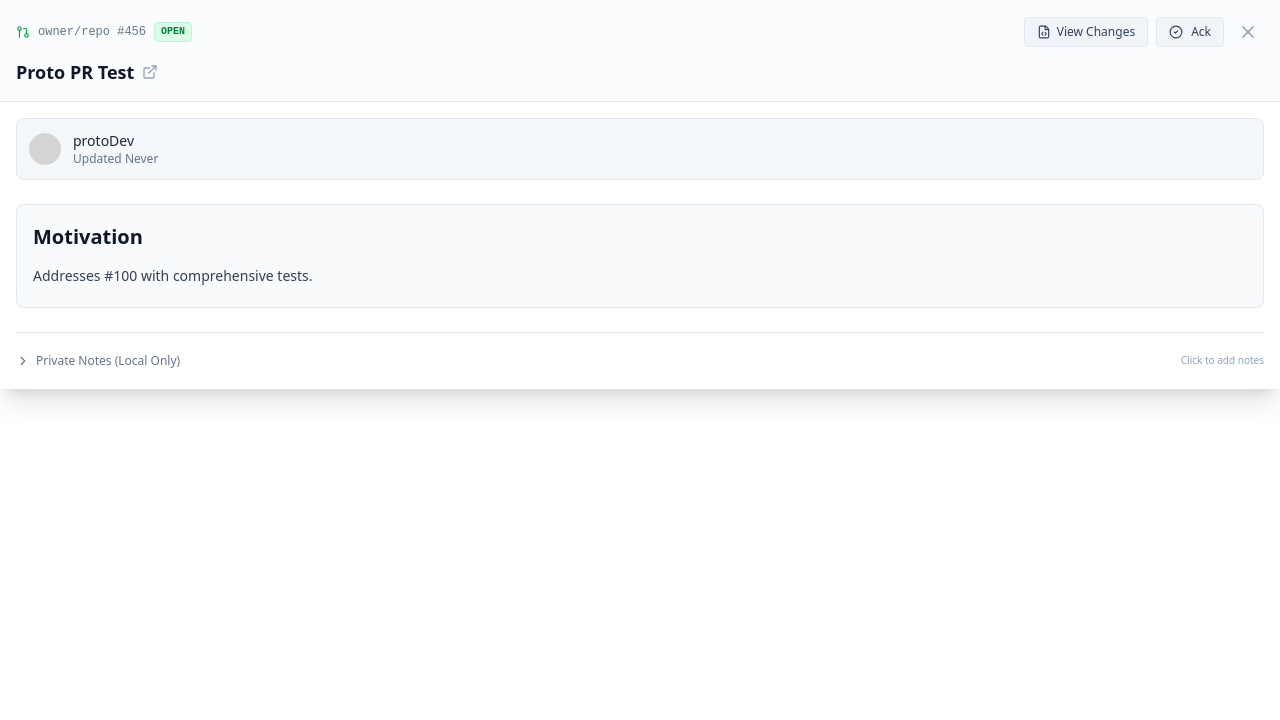
DetailsPane Component › Collapsible Private Notes › expands when clicking the toggle header and displays textarea
Click the button "Private Notes (Local Only) Click to add notes": {"x": 108, "y": 360} [16,349,1264,373]
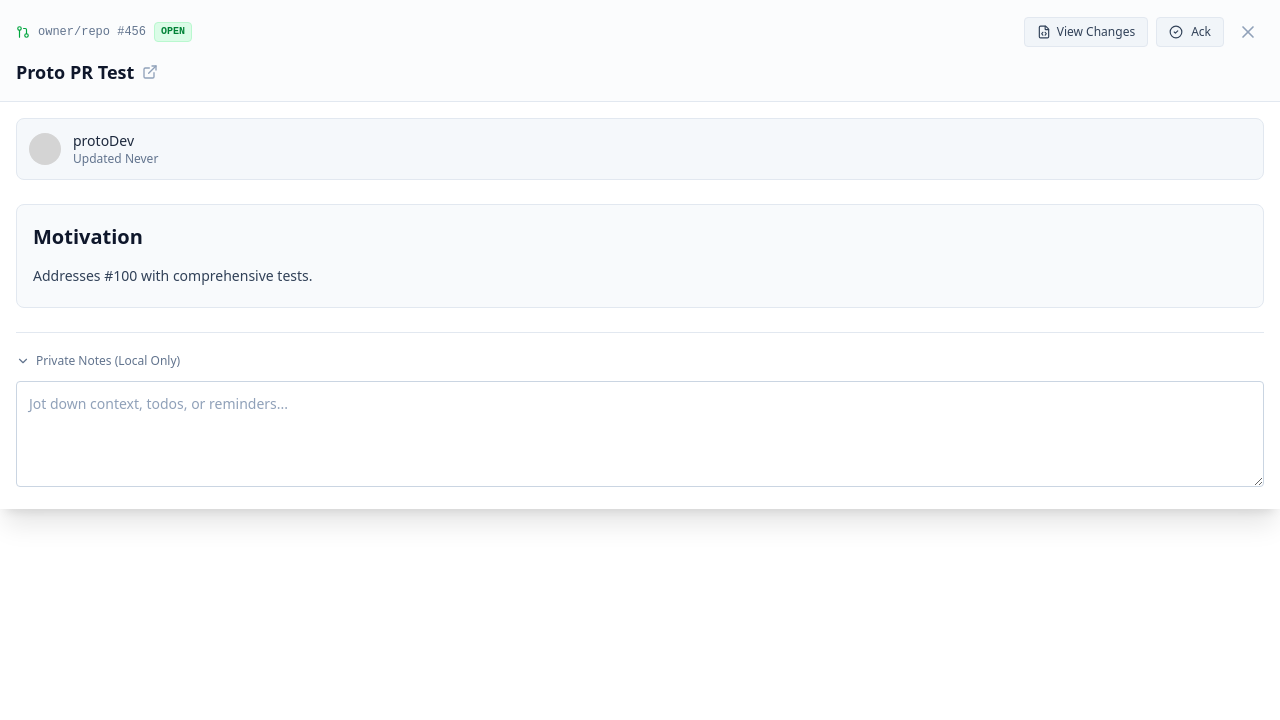
Check: the text box with placeholder "Jot down context, todos, or reminders..." is shown, box [16,381,1264,487]
